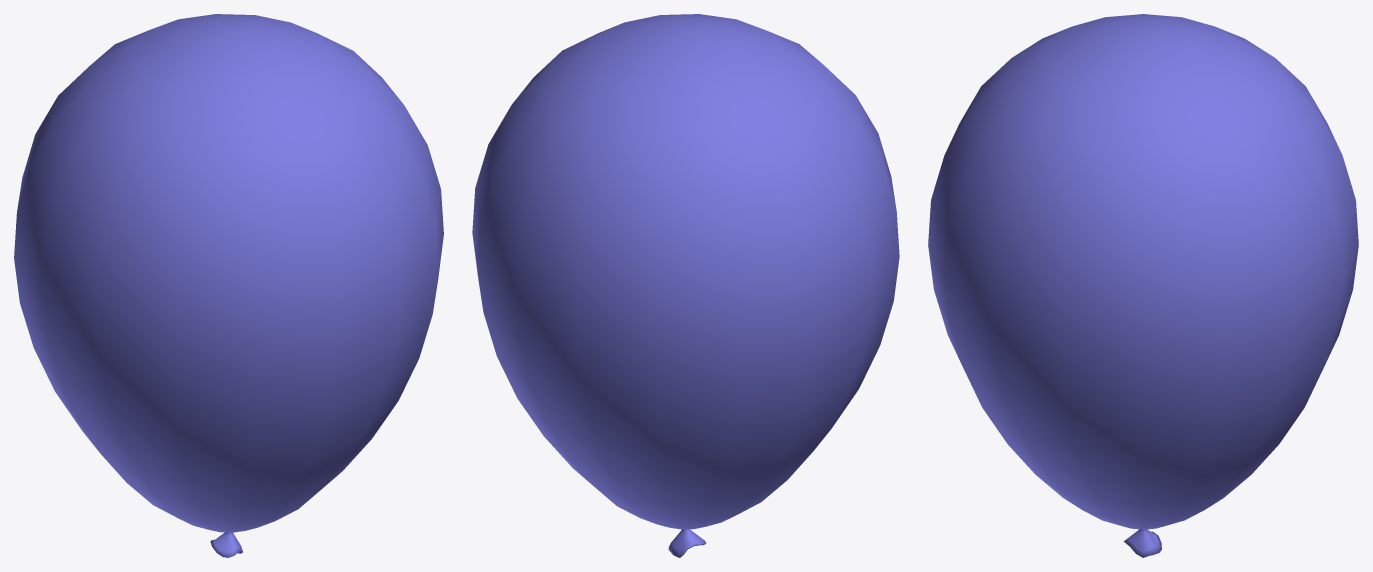
The model's file is Balloon_Blue.fbx.
3 renders of one model, left to right at view 1: azimuth 30°, elevation 25°; view 2: azimuth 150°, elevation 25°; view 3: azimuth 270°, elevation 25°, orthographic.
Visible parts, largest first — view 1: Balloon_Blue; view 2: Balloon_Blue; view 3: Balloon_Blue.
Boxes of the visible parts, bbox=[...] form: Balloon_Blue: bbox=[14, 14, 443, 557]; Balloon_Blue: bbox=[472, 14, 899, 557]; Balloon_Blue: bbox=[928, 14, 1358, 557].
Size of the model in its own units: 3.02 by 4 by 3.02.
